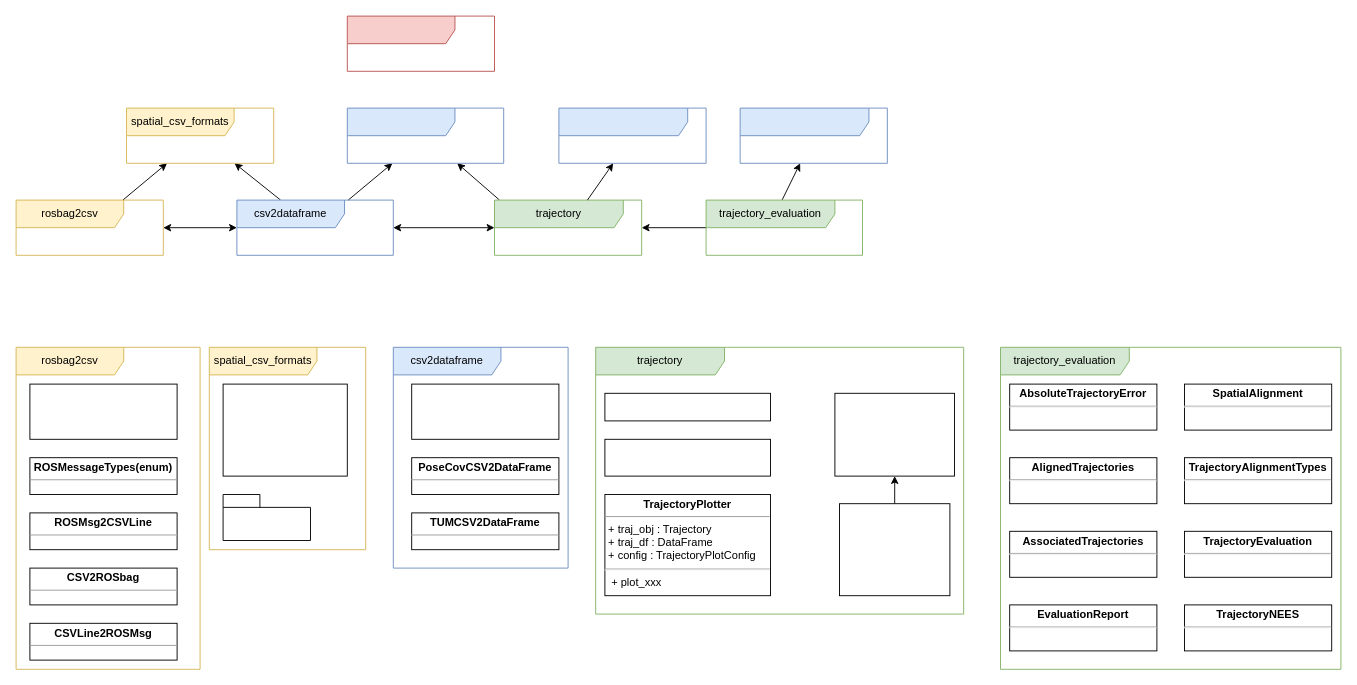
The diagram is 1357 pixels wide and 685 high, and some of its shapes have lost their labels. The box of each missing label's shape, as (x1, y1, x2, y2) in pixels:
CSV2DataFrame + df, format: (411, 383, 559, 439)
CSVFormats(enum) + get_header() + get_format() + identify_format(fn): (222, 383, 347, 476)
numpy_utils: (739, 107, 887, 163)
pandas.DataFrame: (346, 107, 504, 163)
PoseStructs: (222, 494, 310, 540)
ROSbag2CSV + extract(...): (29, 383, 177, 439)
script_utils: (346, 15, 494, 71)
timestamp_association: (558, 107, 706, 163)
Trajectory + t/p/q_vec + plot_xxx: (834, 392, 954, 476)
TrajectoryEstimated + t/p/q_vec + P_vec + plot_xxx: (839, 503, 950, 596)
TrajectoryPlotConfig: (604, 392, 770, 421)
TrajectoryPlotTypes(Enum): (604, 438, 770, 476)
